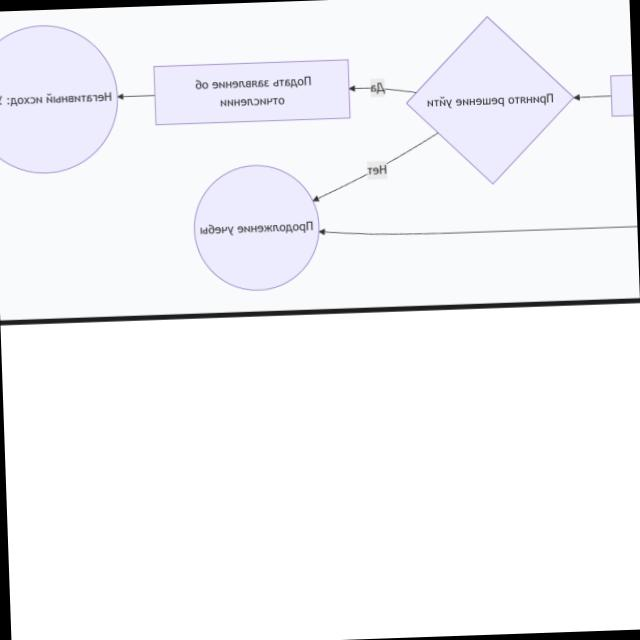arrow: (309, 130, 443, 205), (318, 214, 637, 242), (348, 80, 418, 100), (572, 91, 613, 105), (117, 89, 154, 103)
circle: (189, 162, 322, 295)
diamond: (405, 16, 574, 185)
rectangle: (152, 59, 349, 124)
text_region: (365, 161, 389, 178), (369, 80, 387, 98)
